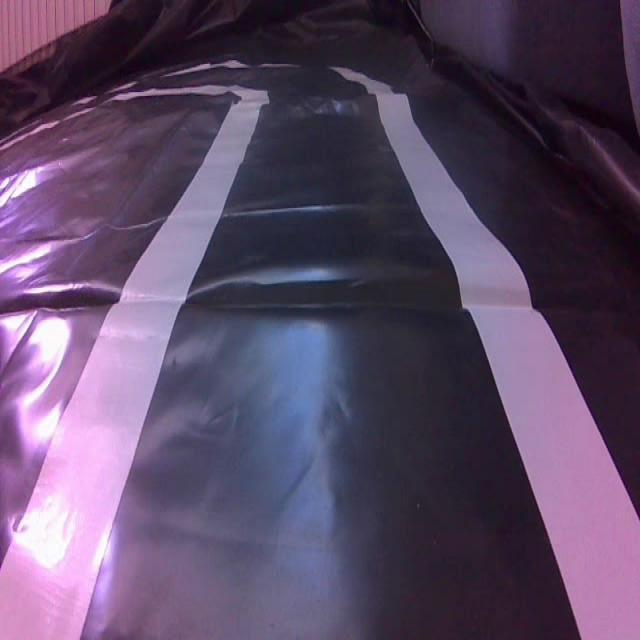LineaCarril: (336, 68, 640, 638), (1, 87, 268, 638)
